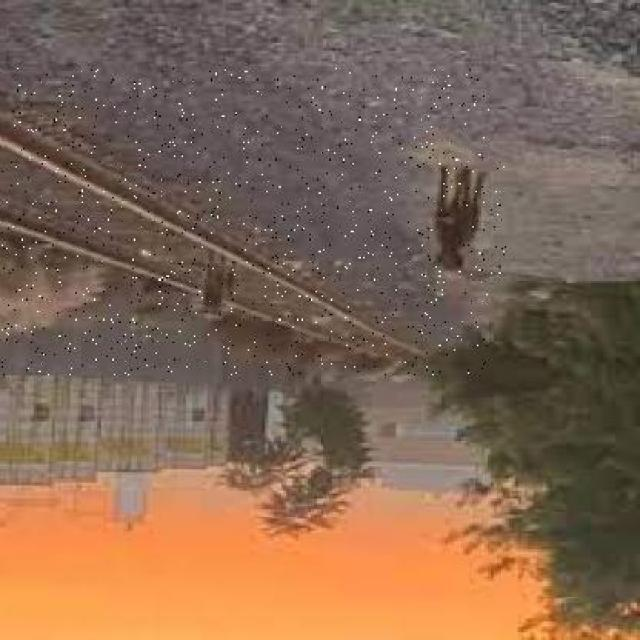rail: (3, 69, 489, 374)
